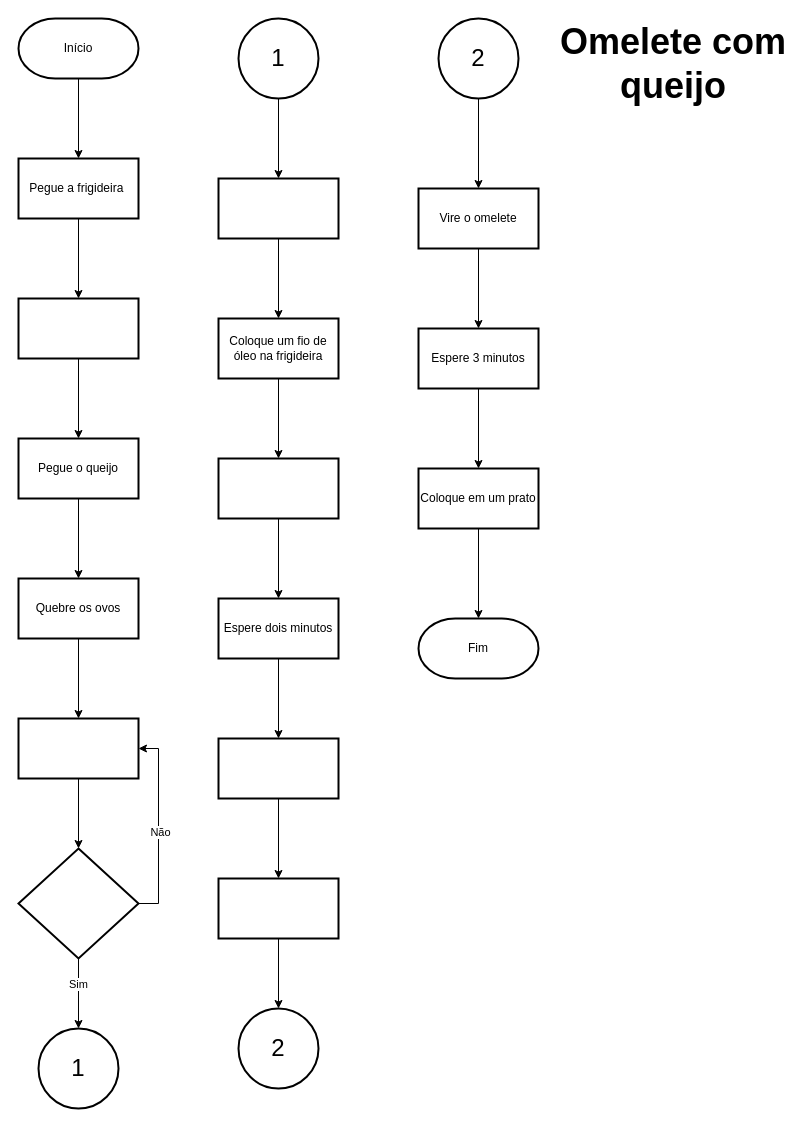
This 805x1126 diagram has some shape labels left out. The centre of each missing label's shape, as x and y in pixels:
A mistura está homogênia?: the point at 78,903
Acrescente o queijo: the point at 278,768
Bata os ovos juntos: the point at 78,748
Coloque a frigideira no fogo: the point at 278,208
Coloque a mistura na frigideira: the point at 278,488
Espere 2 minutos: the point at 278,908
Pegue dois ovos: the point at 78,328
